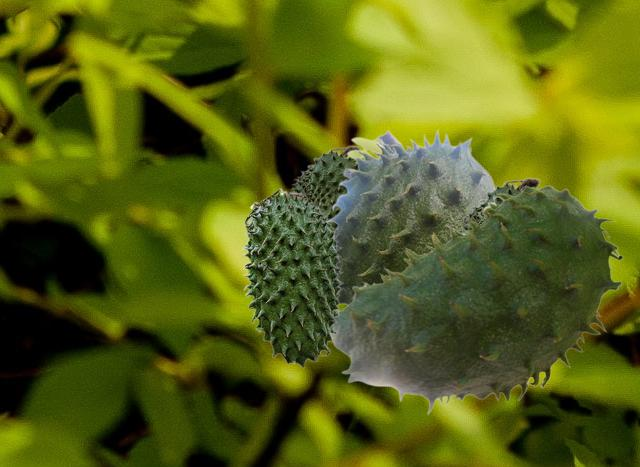guyabano: (332, 185, 622, 414), (328, 127, 495, 305), (241, 187, 343, 367), (288, 145, 360, 226), (457, 177, 541, 231)
